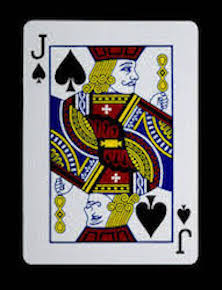JackOfSpades: (17, 14, 203, 271)
